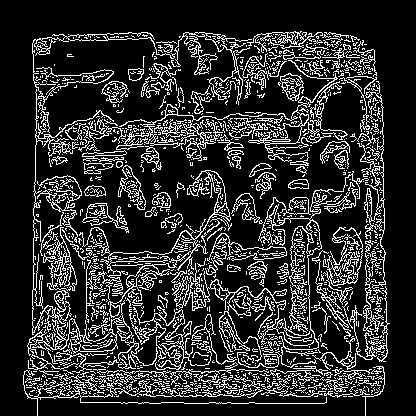buddha-sitting: (68, 205, 196, 236)
